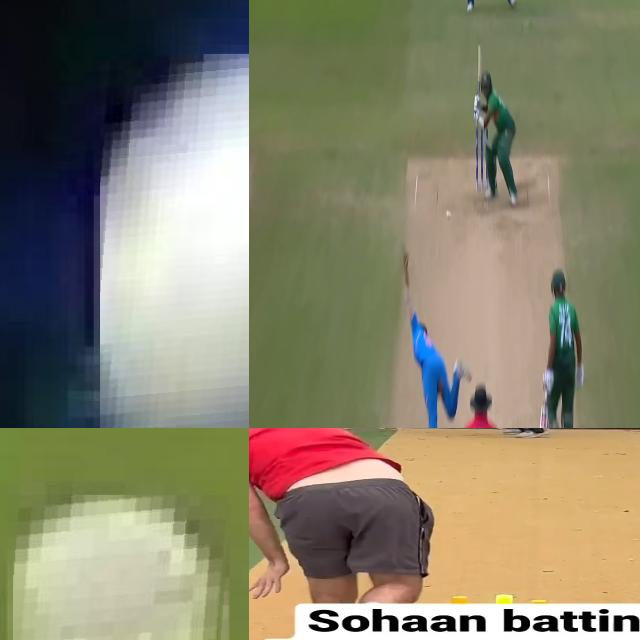Cricket ball: (100, 54, 249, 428), (12, 495, 234, 640), (446, 210, 452, 220)
Stumps: (476, 126, 489, 193)
